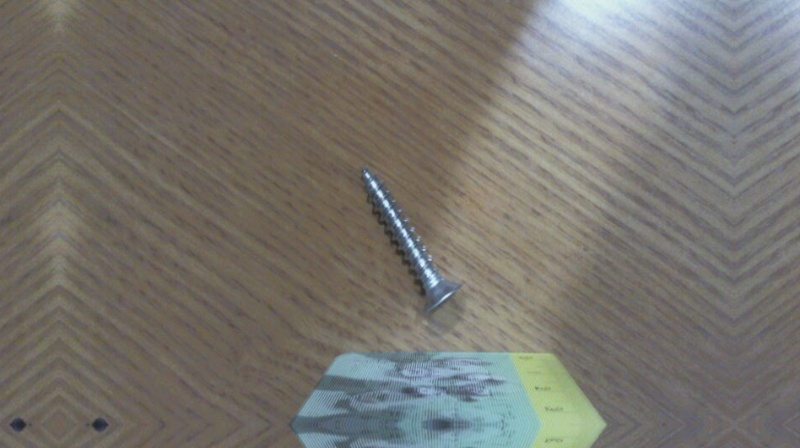S001: (355, 160, 465, 323)
